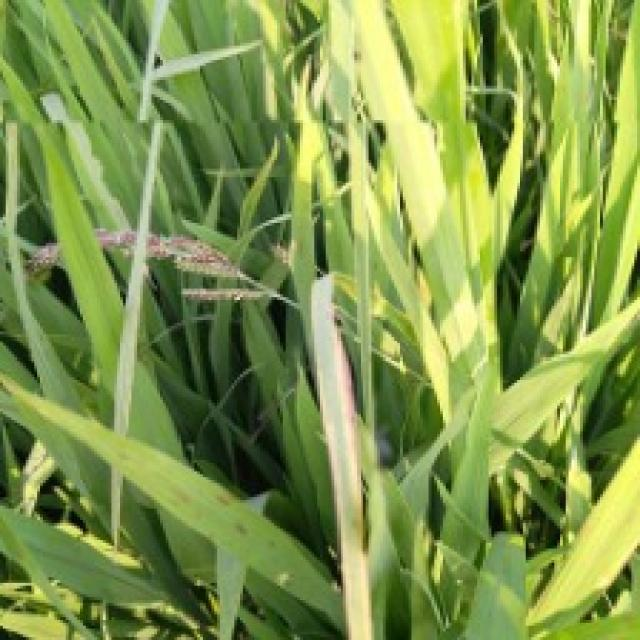Unhealthy: (325, 421, 374, 640), (332, 327, 363, 525), (170, 486, 192, 505), (212, 493, 230, 508), (273, 572, 288, 588), (234, 524, 251, 538), (268, 537, 275, 548)
